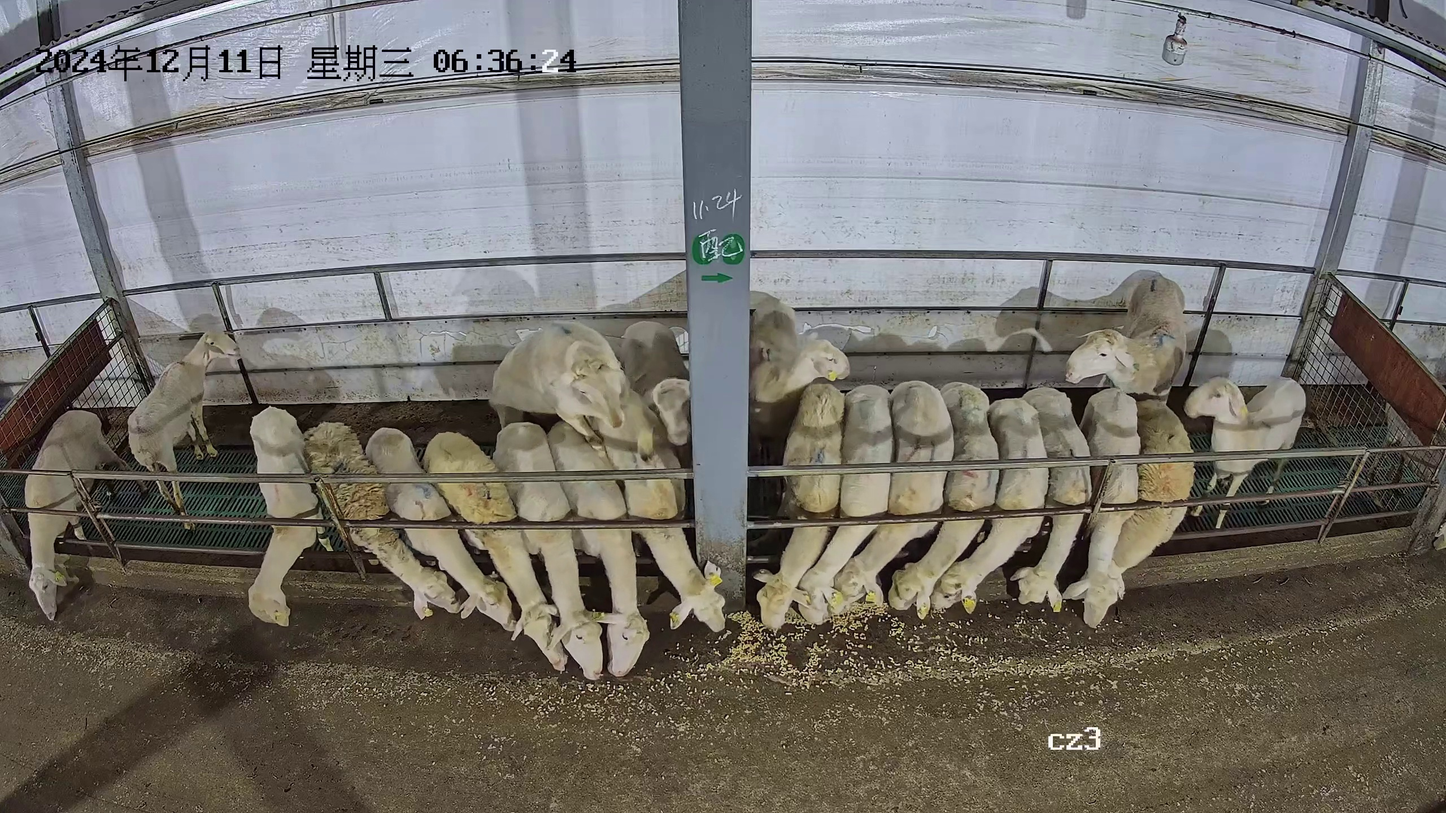Nmounting: (482, 316, 655, 673)
